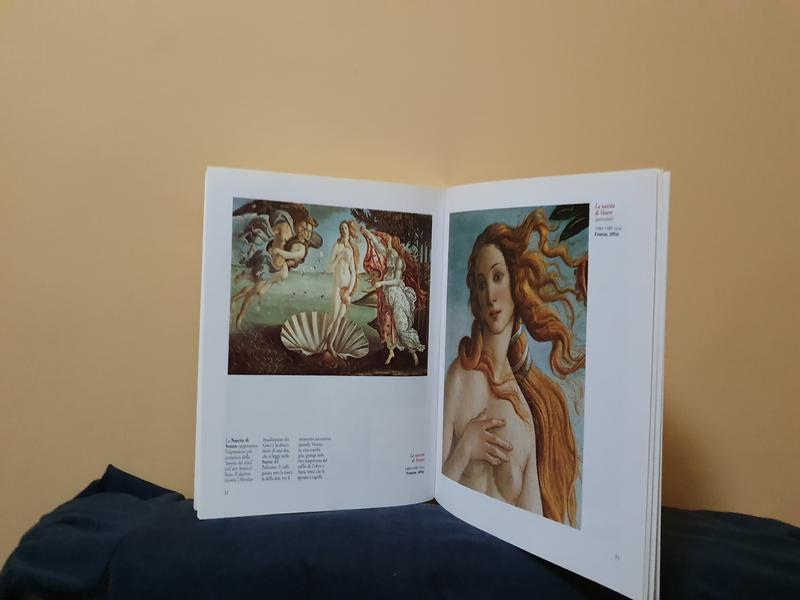Venere: (225, 194, 432, 381)
